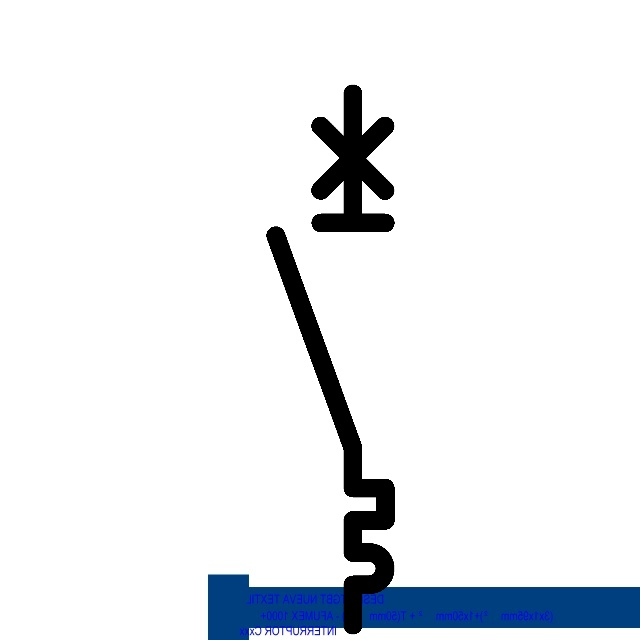interruptor_termomagnetico: (262, 80, 399, 639)
